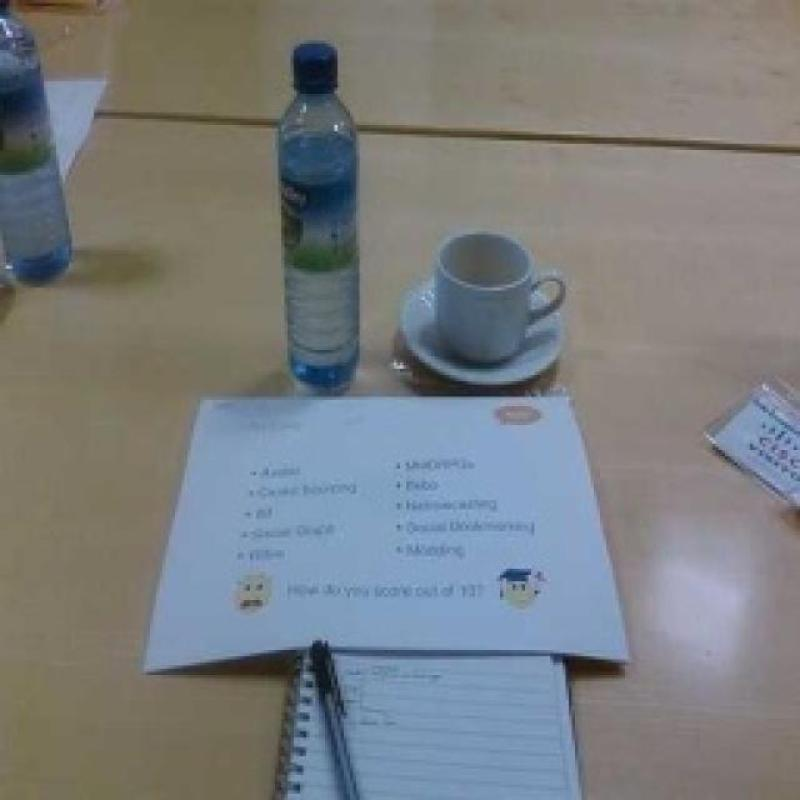botella: (272, 40, 363, 394), (0, 3, 72, 284)
